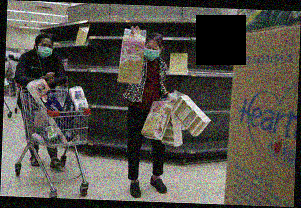with_mask: (143, 42, 161, 62), (35, 41, 53, 59)
